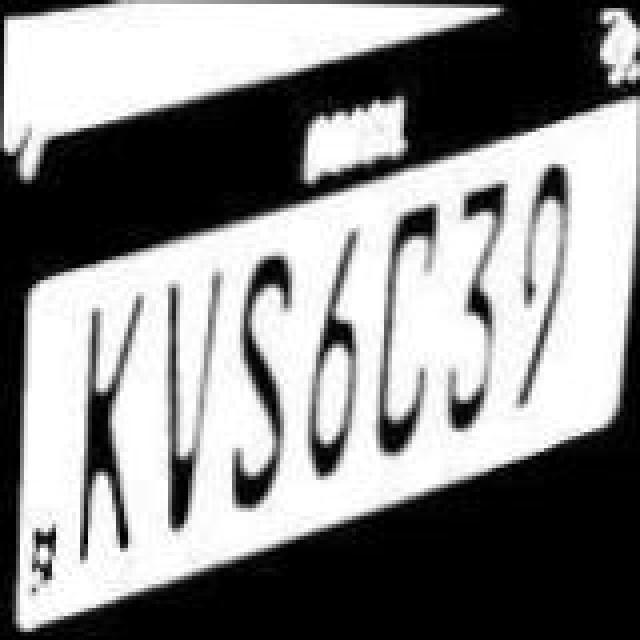3: (454, 168, 518, 440)
6: (316, 208, 376, 492)
9: (514, 148, 578, 420)
C: (382, 186, 446, 462)
K: (76, 276, 140, 572)
S: (228, 246, 316, 526)
V: (154, 260, 230, 540)
